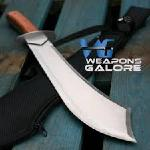Golok: (5, 7, 138, 145)
